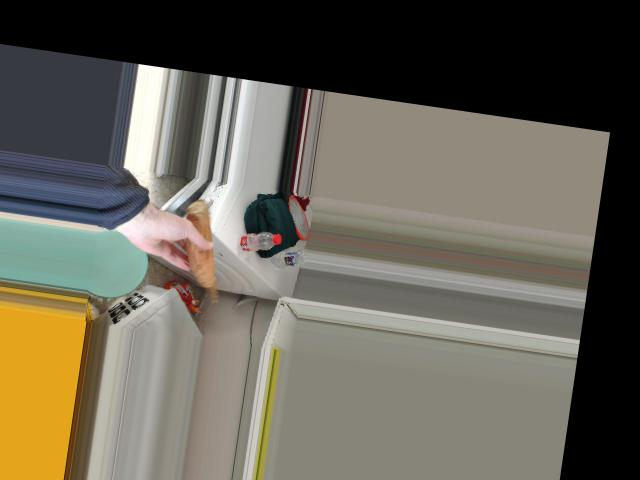sweet_potato: (171, 203, 234, 300)
